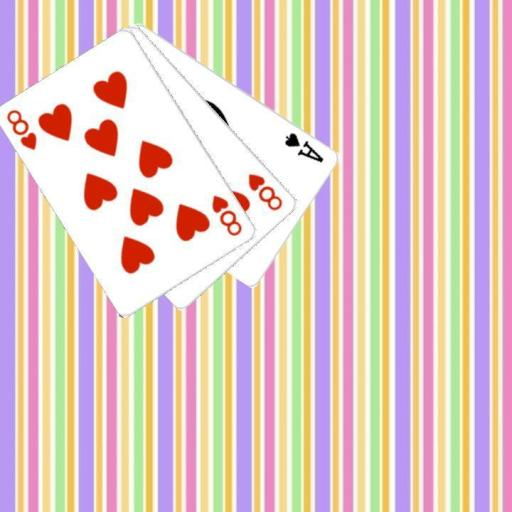card-corner: (208, 192, 244, 238), (246, 170, 284, 213), (4, 106, 39, 151), (282, 129, 326, 164)
